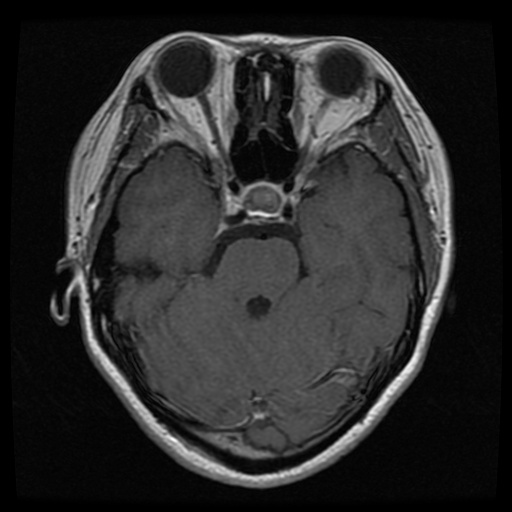pituitary: (241, 183, 285, 215)
